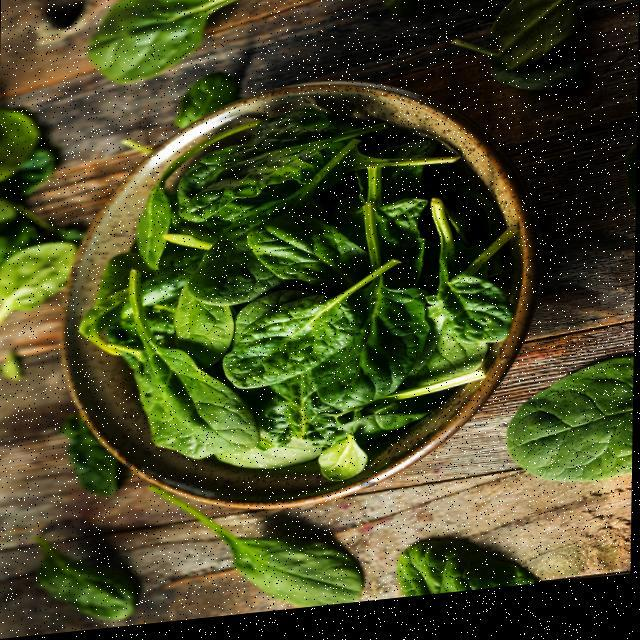Spinach: (72, 77, 546, 507)
